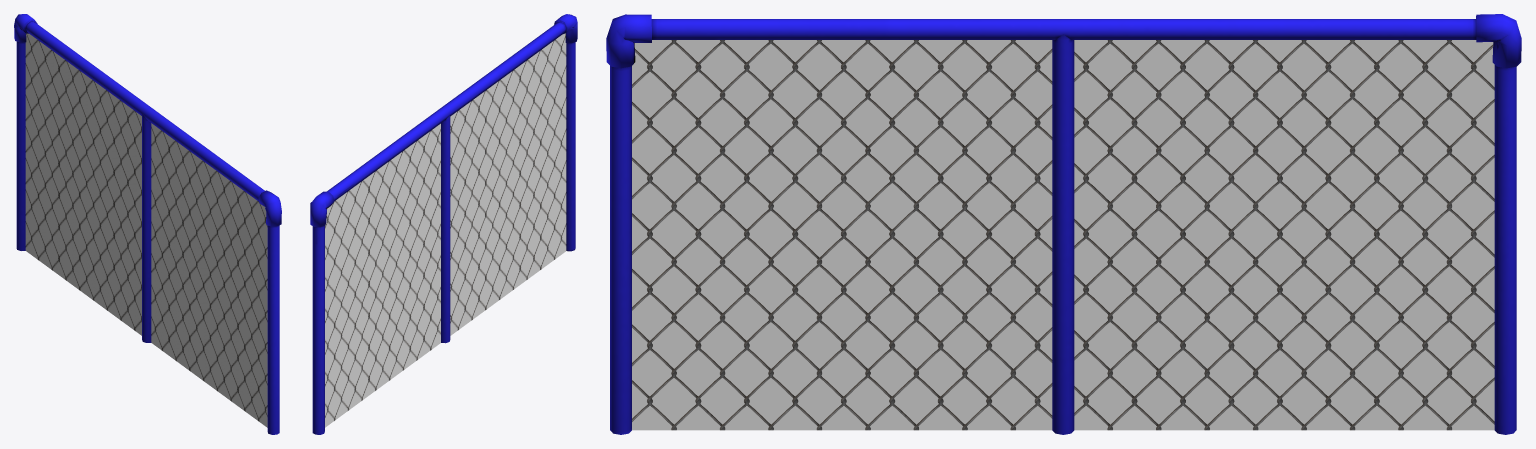
The model's file is fence.fbx.
3 views of the same model, side by side, from view 1: azimuth 30°, elevation 25°; view 2: azimuth 150°, elevation 25°; view 3: azimuth 270°, elevation 25° (orthographic). The views are drawn at different scales.
Visible parts, largest first — view 1: Cylinder.000, Cylinder.001; view 2: Cylinder.000, Cylinder.001; view 3: Cylinder.000, Cylinder.001.
Boxes of the visible parts, <box> form: Cylinder.000: <box>25,33,267,427</box>; Cylinder.001: <box>14,14,281,434</box>; Cylinder.000: <box>325,33,566,427</box>; Cylinder.001: <box>310,14,577,434</box>; Cylinder.000: <box>632,40,1494,430</box>; Cylinder.001: <box>606,14,1521,434</box>.
Size of the model in its own units: 28.11 by 414 by 828.
